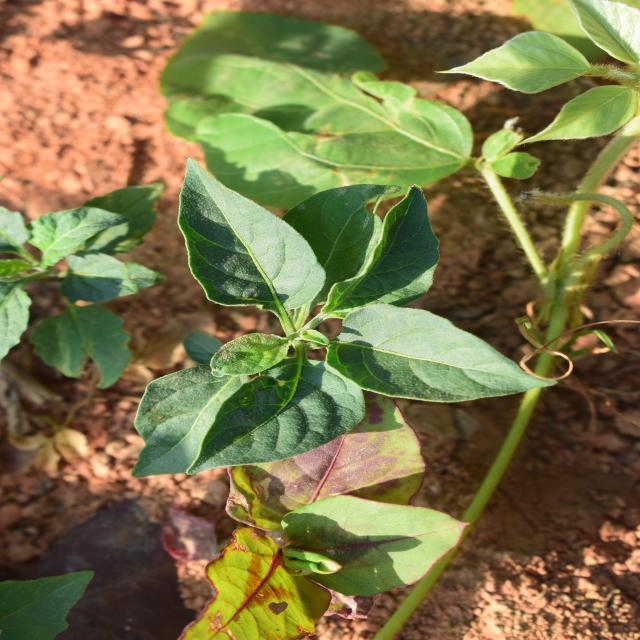Black_nightshade: (165, 130, 445, 490)
